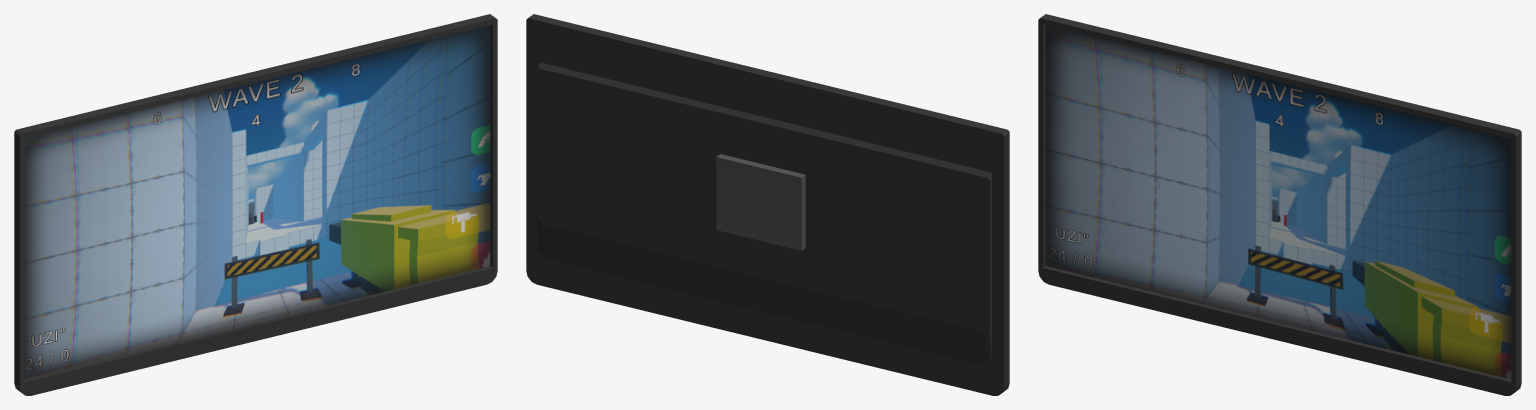
Rendered from TV_4_Mounted.obj.
3 renders of one model, left to right at view 1: azimuth 30°, elevation 25°; view 2: azimuth 150°, elevation 25°; view 3: azimuth 330°, elevation 25°, orthographic.
Visible parts, largest first — view 1: TV_4_Mounted; view 2: TV_4_Mounted; view 3: TV_4_Mounted.
Boxes of the visible parts, x1,y1,x2,y2 form: TV_4_Mounted: (14, 14, 497, 395); TV_4_Mounted: (526, 14, 1009, 395); TV_4_Mounted: (1038, 14, 1521, 395).
Bounding box in the file's own units: 1.31 × 0.6917 × 0.0562.
